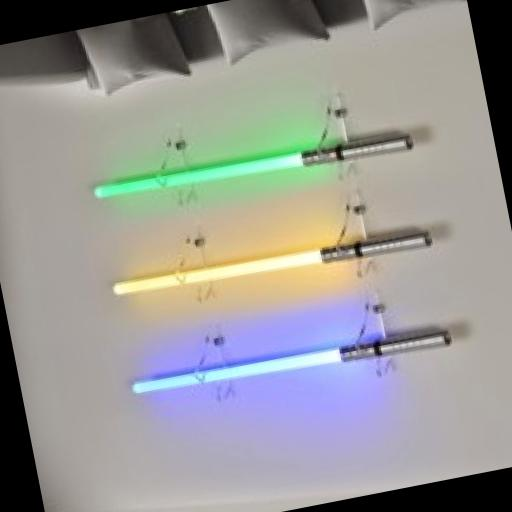lightsaber: (95, 120, 414, 210), (130, 319, 454, 407), (113, 221, 434, 308)
